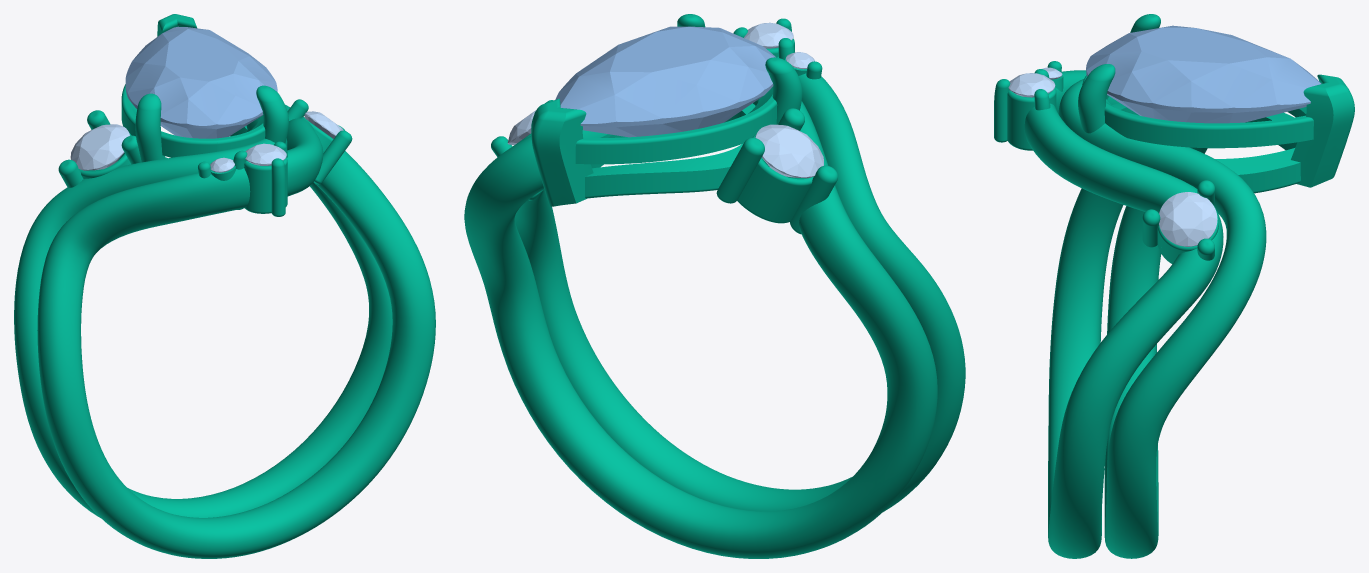
3 renders of one model, left to right at view 1: azimuth 30°, elevation 25°; view 2: azimuth 150°, elevation 25°; view 3: azimuth 270°, elevation 25°, orthographic. The views are drawn at different scales.
Visible parts, largest first — view 1: VR1035.3dm, Diamond_Pear, Head Prong (×4), Bezel (×2), Diamond_Round (×3); view 2: VR1035.3dm, Diamond_Pear, Bezel (×4), Head Prong (×3), Diamond_Round (×2); view 3: VR1035.3dm, Diamond_Pear, Bezel (×4), Diamond_Round (×2), Head Prong (×3).
Boxes of the visible parts, box(x1,y1,x2,y2) form: VR1035.3dm: box(14, 14, 435, 558); Diamond_Pear: box(125, 26, 277, 138); Head Prong (×4): box(135, 85, 352, 216); Bezel (×2): box(121, 84, 287, 201); Diamond_Round (×3): box(70, 111, 343, 170); VR1035.3dm: box(464, 56, 965, 558); Diamond_Pear: box(555, 26, 775, 137); Bezel (×4): box(575, 87, 813, 223); Head Prong (×3): box(716, 57, 837, 234); Diamond_Round (×2): box(744, 22, 823, 178); VR1035.3dm: box(1024, 70, 1354, 558); Diamond_Pear: box(1086, 25, 1321, 123); Bezel (×4): box(1007, 75, 1313, 260); Diamond_Round (×2): box(1008, 73, 1217, 246); Head Prong (×3): box(994, 64, 1160, 247).
Bounding box in the file's own units: 2.39 × 2.67 × 1.77.
